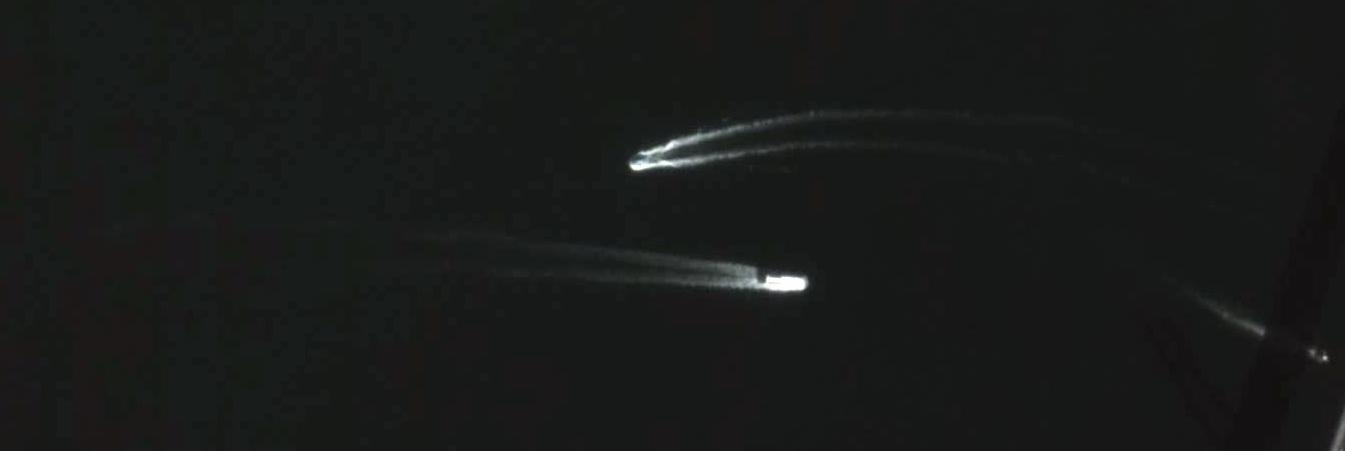person: (765, 273, 808, 293), (1304, 342, 1336, 365), (629, 154, 652, 164)
